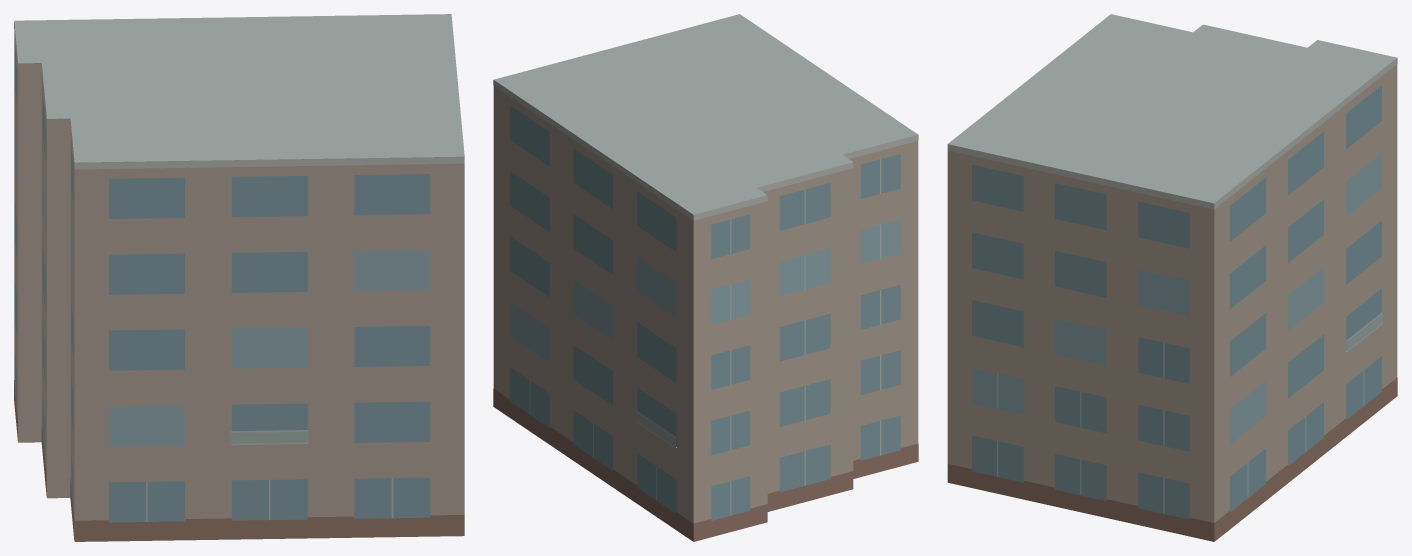
Rendered from survey-upis-32988405.glb.
3 views of the same model, side by side, from view 1: azimuth 30°, elevation 25°; view 2: azimuth 150°, elevation 25°; view 3: azimuth 270°, elevation 25° (orthographic). The views are drawn at different scales.
Parts seen in each view (by area): view 1: survey-upis-32988405.tmp; view 2: survey-upis-32988405.tmp; view 3: survey-upis-32988405.tmp.
Boxes of the visible parts, <box> form: survey-upis-32988405.tmp: <box>14,14,464,541</box>; survey-upis-32988405.tmp: <box>493,14,918,541</box>; survey-upis-32988405.tmp: <box>947,14,1397,541</box>.
Bounding box in the file's own units: 15.97 × 13.3 × 16.03.
